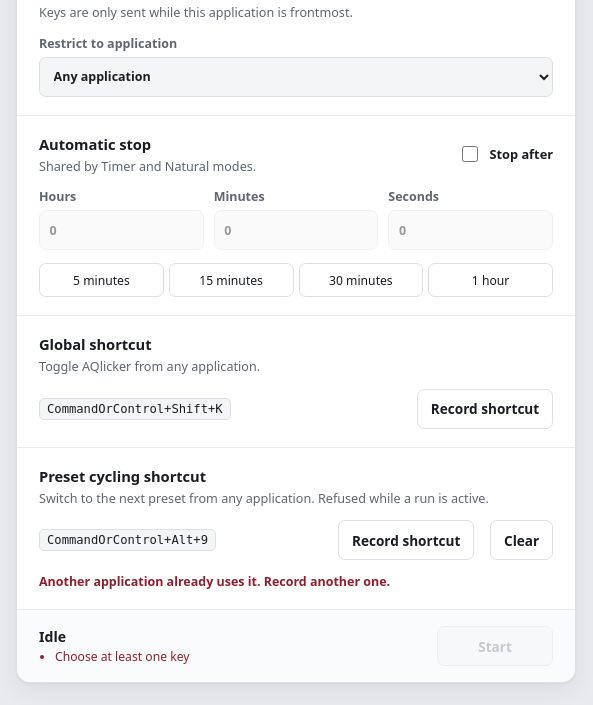
Test case: App › warns when a stored cycling shortcut could not be registered
(page scrolled)
expect the heading "Preset cycling shortcut" is shown: met, box top-left (39, 466), bottom-right (206, 486)
expect the text "Another application already uses it. Record another one." is shown: met, box top-left (39, 573), bottom-right (390, 590)
Click the button with aria-label "Record preset cycling shortcut" at (406, 540), box top-left (338, 520), bottom-right (474, 560)
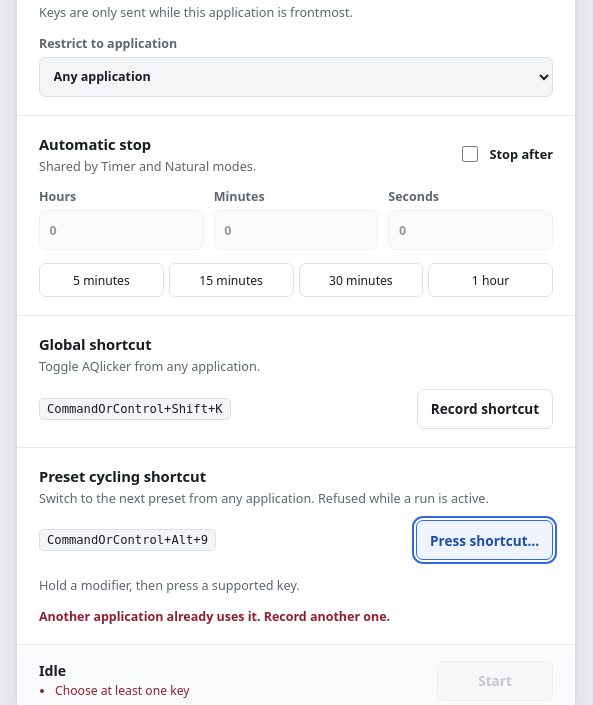
Press 8 in the button with aria-label "Press preset cycling shortcut", box top-left (416, 520), bottom-right (553, 560)
(page scrolled)
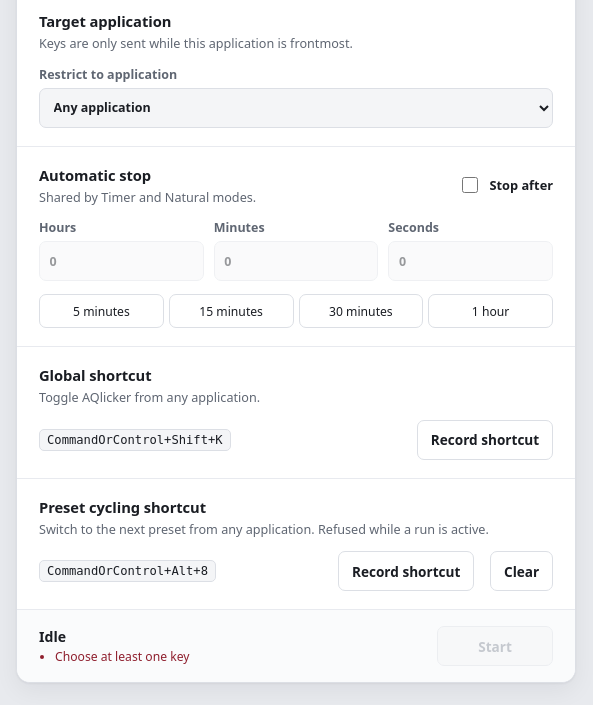
expect the text "Another application already uses it" is gone: met
